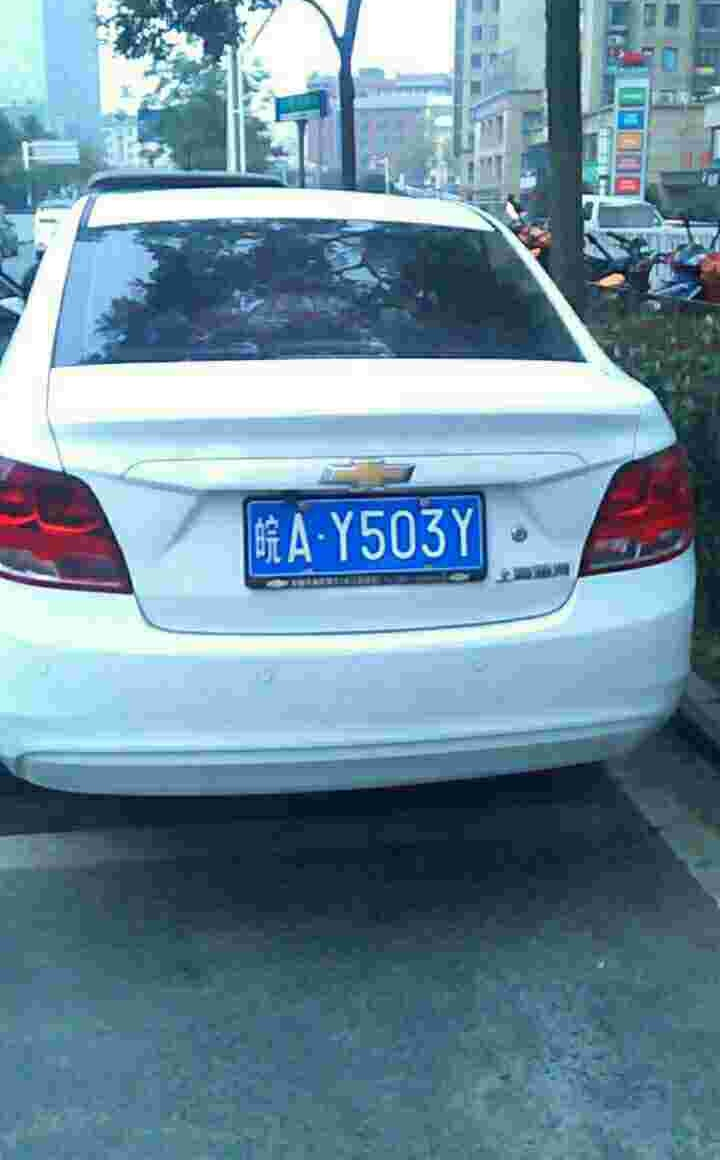license_plate: (246, 493, 472, 586)
